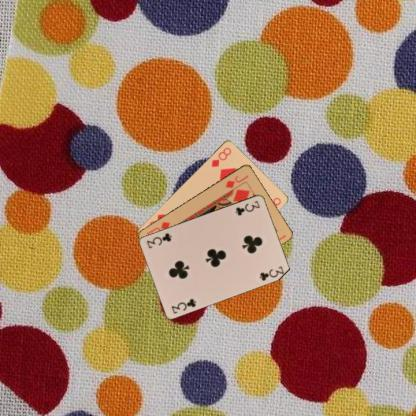3c: (168, 296, 198, 315), (233, 198, 261, 216)
8d: (209, 145, 232, 168)
Jd: (223, 172, 250, 189)
